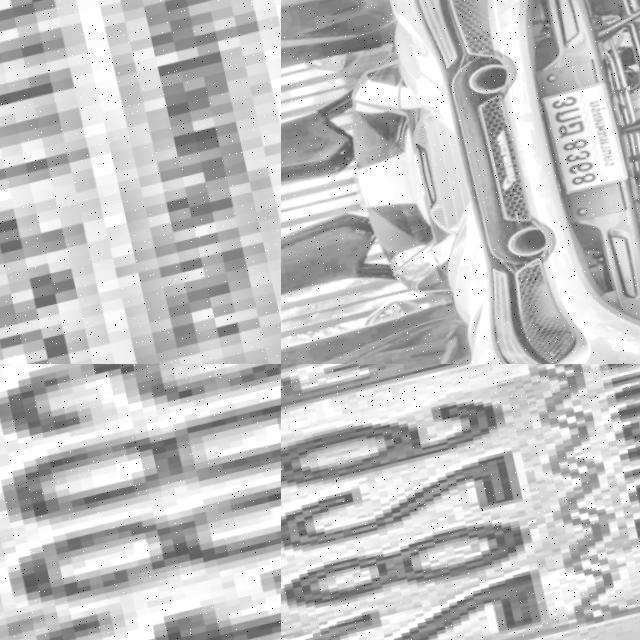license-plate: (0, 0, 281, 364), (281, 364, 640, 640), (0, 364, 281, 640), (533, 86, 628, 204)
